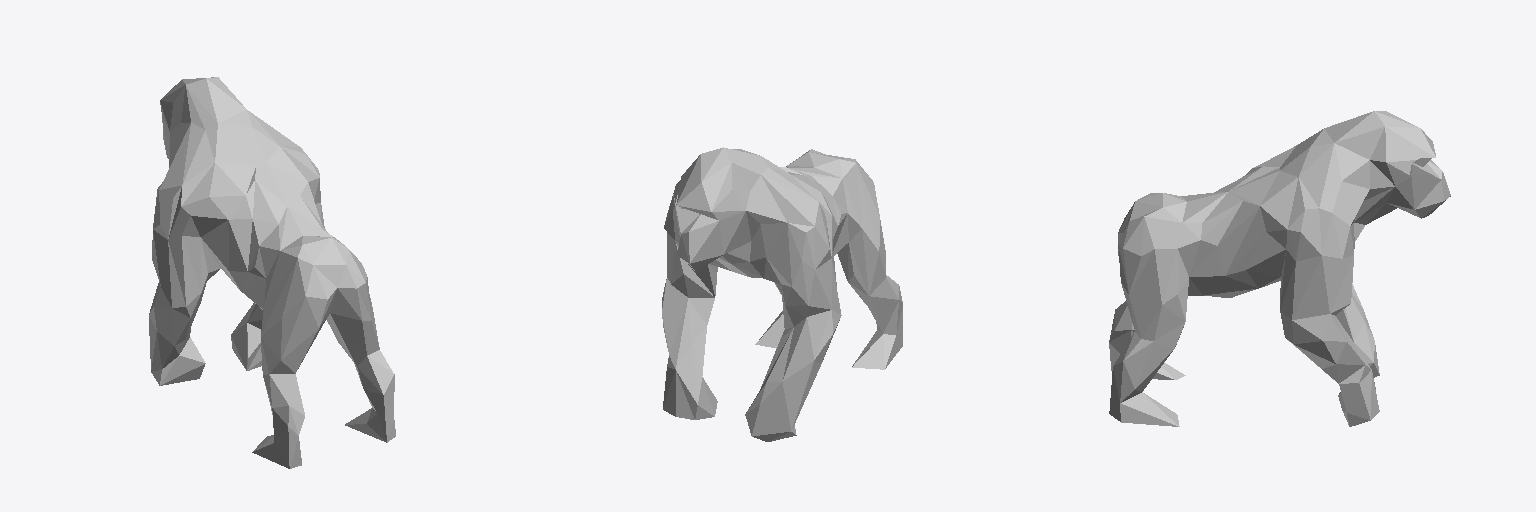
Rendered from modk.obj.
3 renders of one model, left to right at view 1: azimuth 30°, elevation 25°; view 2: azimuth 150°, elevation 25°; view 3: azimuth 270°, elevation 25°, orthographic.
Parts seen in each view (by area): view 1: thingiverse; view 2: thingiverse; view 3: thingiverse.
Boxes of the visible parts, x1=… form: thingiverse: x1=149, y1=77, x2=395, y2=468; thingiverse: x1=662, y1=147, x2=902, y2=441; thingiverse: x1=1109, y1=111, x2=1450, y2=426.
Size of the model in its own units: 2.24 by 3.68 by 3.96.